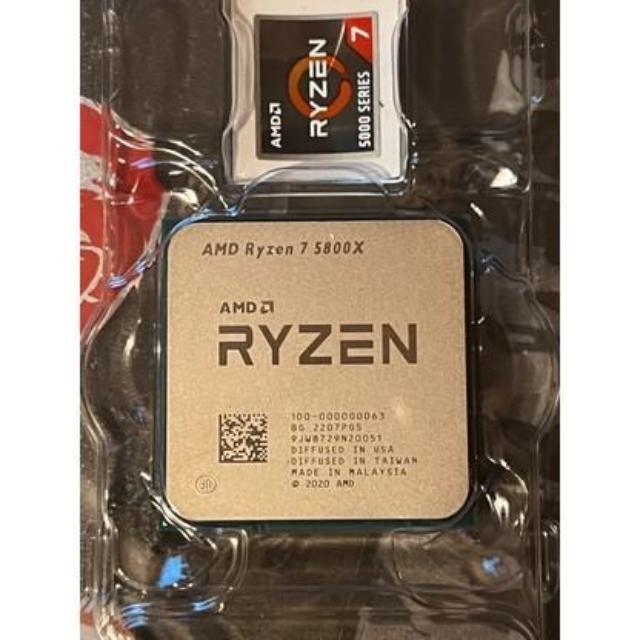CPU: (158, 216, 472, 528)
